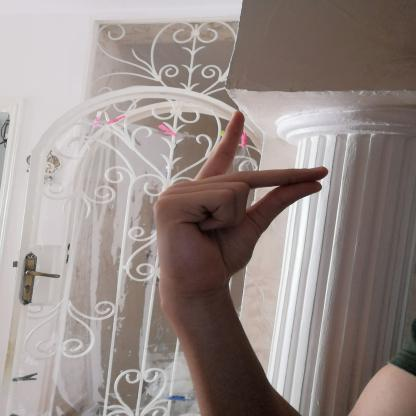TAA: (141, 103, 340, 307)
